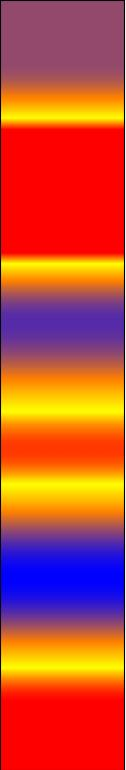Thermal Runaway: (9, 101, 115, 279), (5, 382, 118, 505), (8, 648, 119, 764)
critical: (5, 9, 118, 96), (6, 290, 119, 374), (4, 516, 118, 534), (11, 621, 118, 638)
safe: (6, 540, 120, 614)
